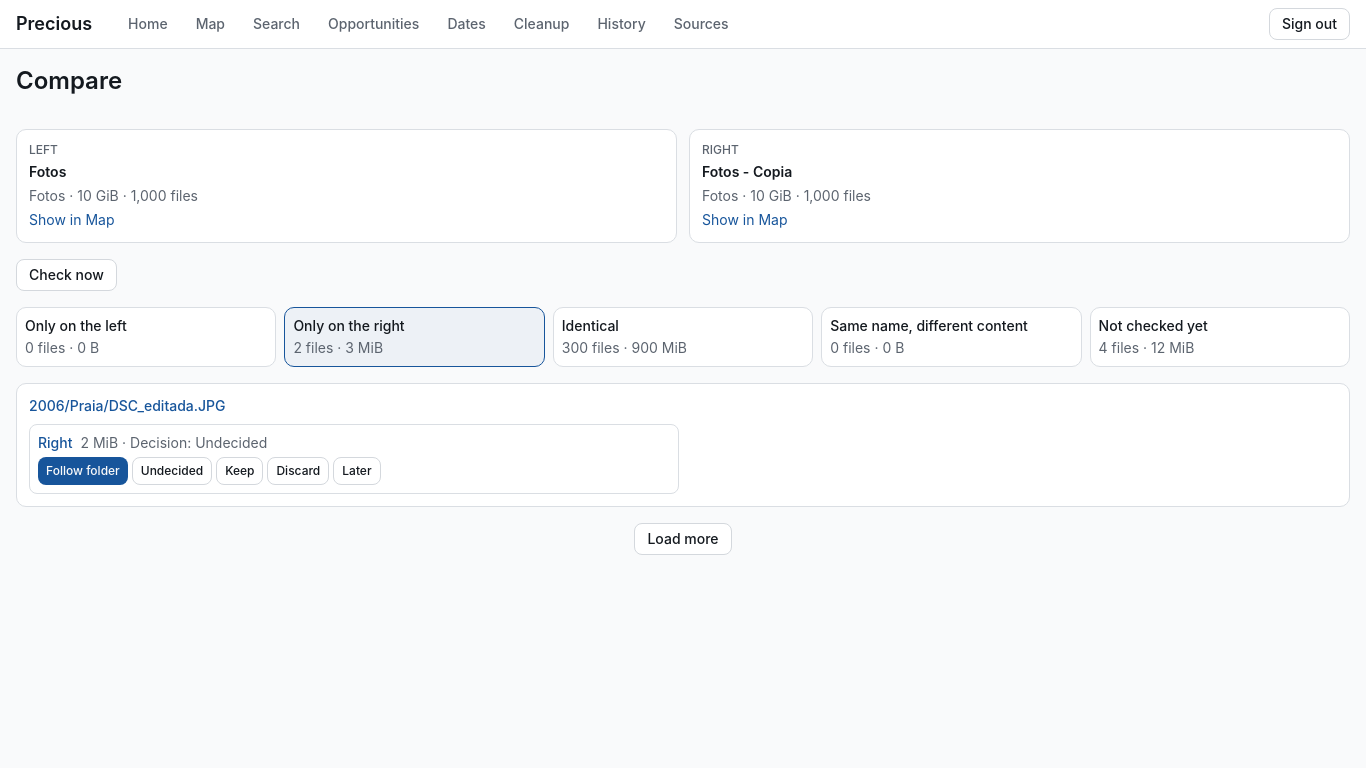
Test: Compare › loads more of the group it opened on
Check: the list named "Files: Only on the right" is shown, box [16,383,1350,507]
Click the button "Load more": (683, 539) [634,523,732,555]
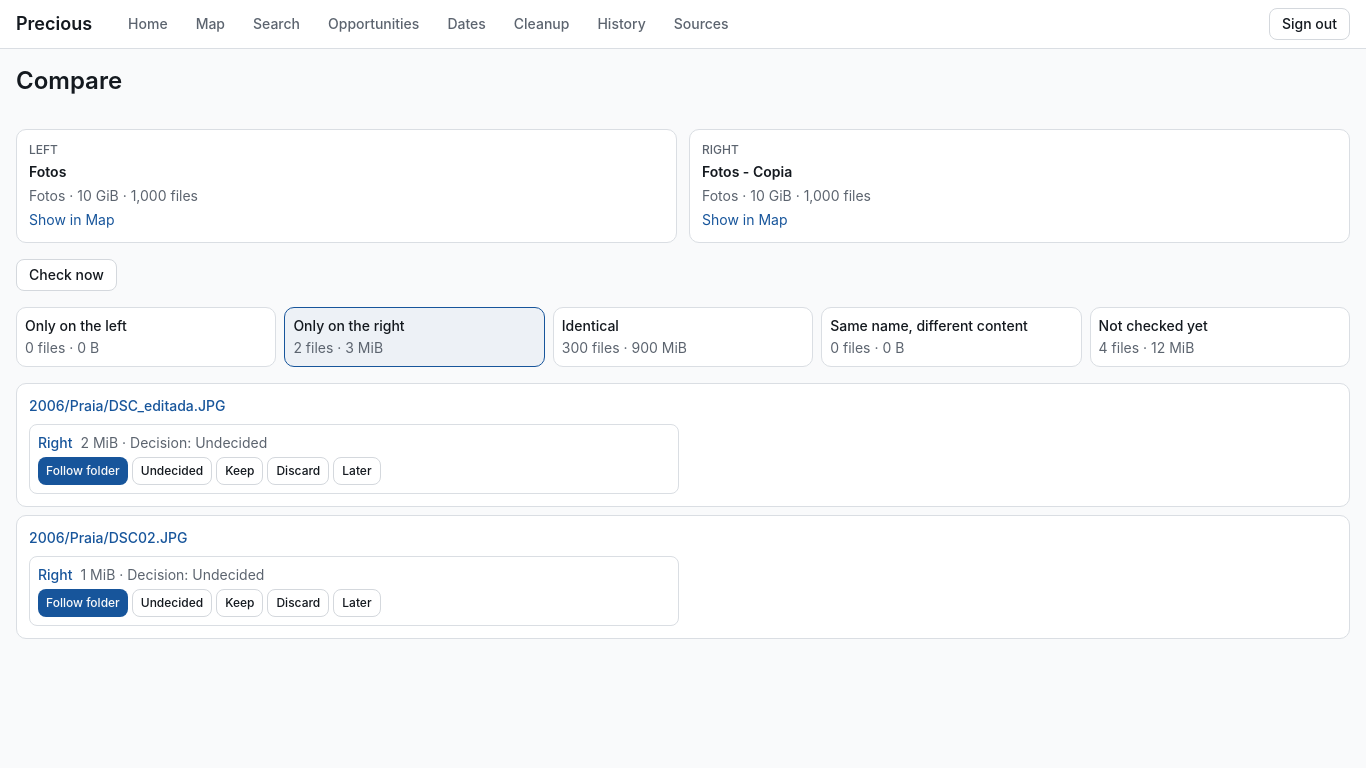
Check: the link "2006/Praia/DSC02.JPG" is shown, box [29,529,188,546]
